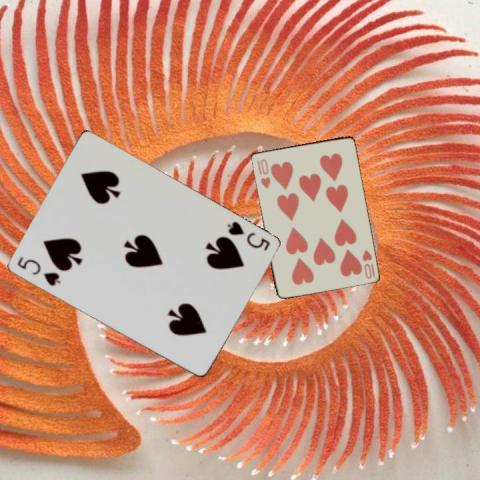10h: (254, 155, 271, 190), (359, 246, 376, 280)
5s: (14, 253, 62, 288), (223, 218, 271, 252)
